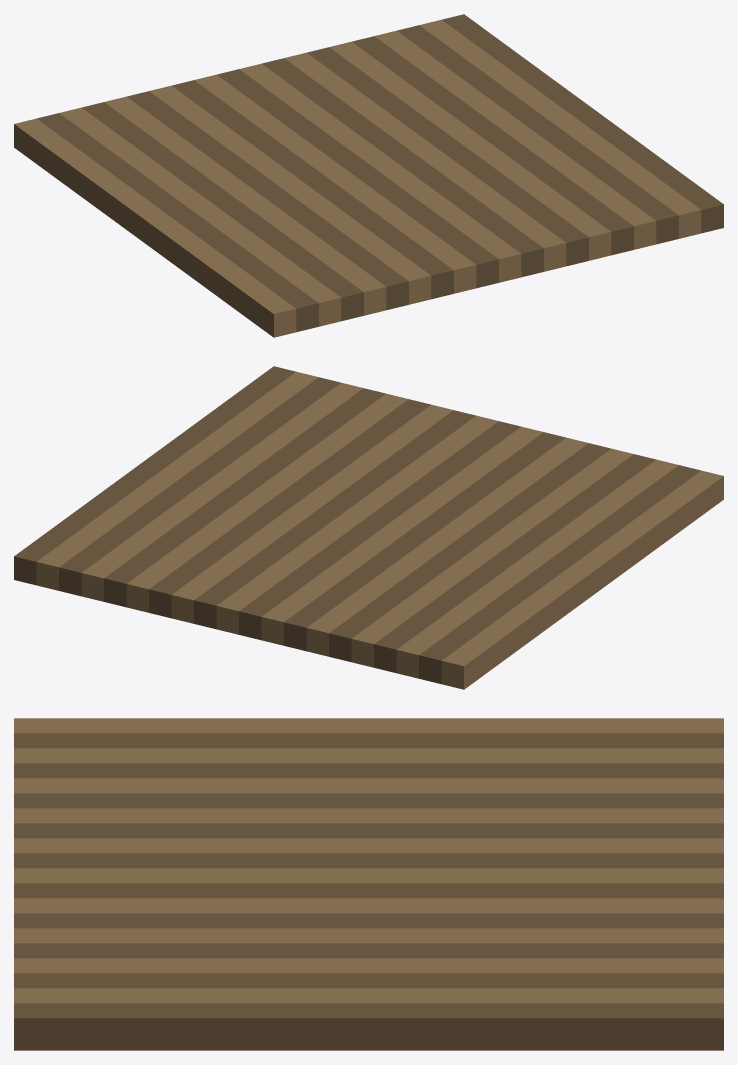
Rendered from BlocksAndFloors-1.obj.
The picture shows the model from 3 angles, top to bottom: view 1: azimuth 30°, elevation 25°; view 2: azimuth 150°, elevation 25°; view 3: azimuth 270°, elevation 25°; orthographic projection. The views are drawn at different scales.
Bounding box in the file's own units: 2 × 0.1 × 2.
Materials: 1 (1 with a texture image).
